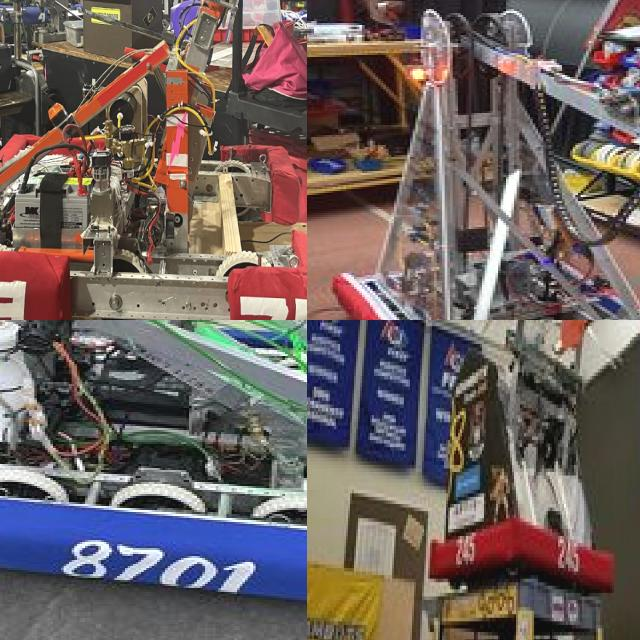FRC-Robots: (0, 0, 307, 320), (0, 320, 307, 638), (346, 0, 640, 320), (410, 320, 625, 599)
